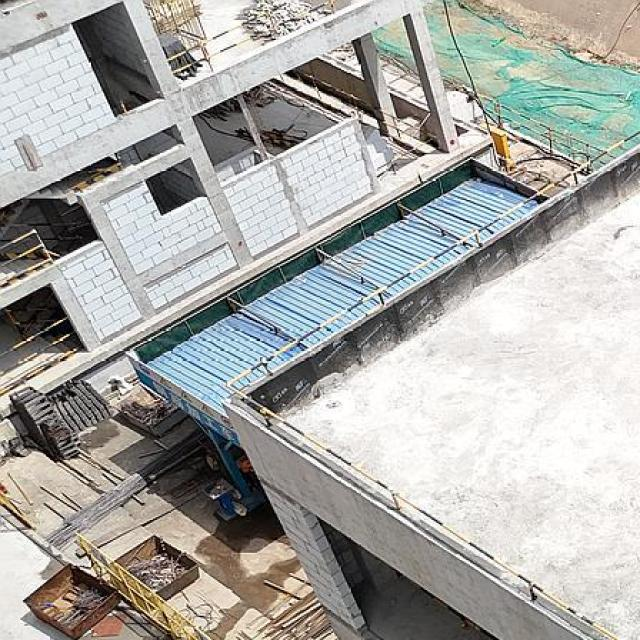edge_guardrail: (220, 124, 640, 640), (165, 0, 340, 74), (287, 68, 439, 146), (478, 94, 603, 160), (0, 315, 84, 398), (0, 227, 54, 287)
